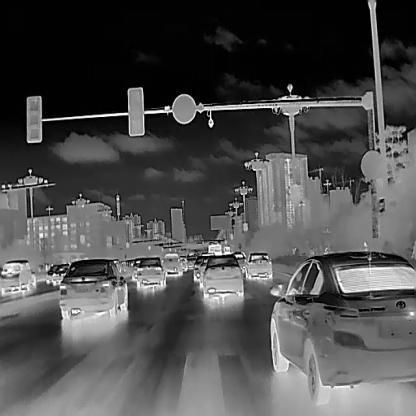car: (268, 249, 415, 406), (57, 258, 127, 320), (202, 254, 244, 298), (0, 259, 36, 296), (136, 256, 165, 289), (244, 251, 272, 281), (162, 252, 182, 276), (51, 263, 69, 286), (192, 254, 206, 282), (132, 256, 148, 279), (44, 263, 59, 285), (231, 250, 246, 270), (206, 242, 221, 255), (186, 254, 197, 269), (112, 258, 122, 273), (178, 255, 187, 271), (222, 245, 230, 255)
